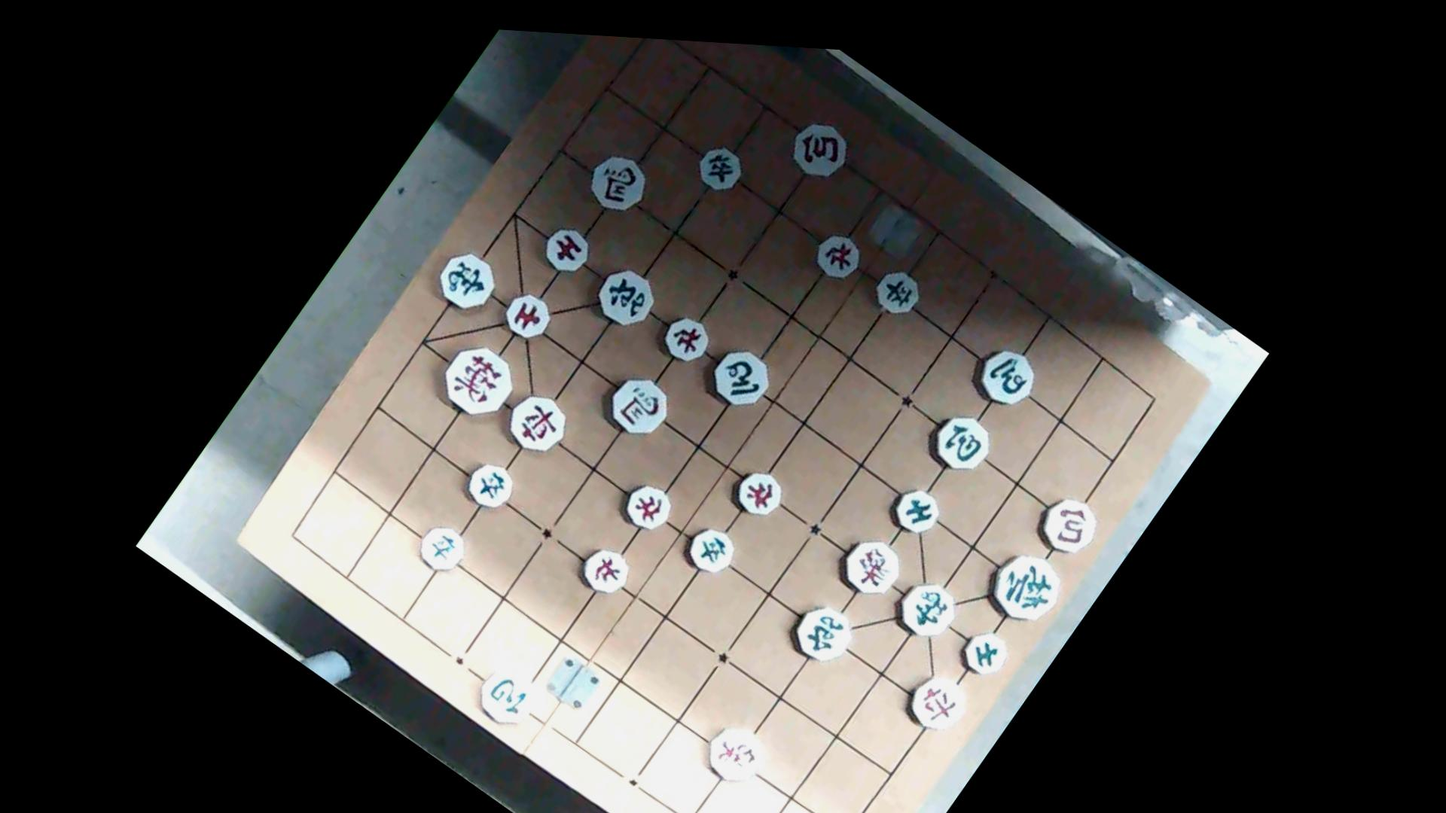cha_green: (586, 257, 664, 336), (786, 595, 860, 670)
cha_red: (499, 382, 577, 463), (898, 665, 973, 739)
jol_green: (410, 515, 477, 583), (459, 455, 522, 519), (680, 520, 743, 584), (869, 260, 930, 323), (687, 138, 749, 199)
jol_red: (616, 473, 680, 541), (805, 223, 871, 288), (574, 537, 637, 604), (656, 306, 718, 371), (729, 464, 788, 523)
ma_green: (700, 337, 779, 419), (969, 338, 1045, 418)
ma_red: (578, 142, 660, 226), (597, 366, 679, 448)
po_green: (467, 655, 545, 736), (923, 403, 999, 483)
po_red: (779, 108, 856, 188), (1033, 488, 1106, 562)
sa_green: (885, 480, 944, 540), (956, 623, 1014, 681)
sa_red: (533, 215, 600, 282), (494, 282, 560, 350)
sang_green: (430, 242, 508, 320), (891, 572, 964, 647)
sang_red: (696, 712, 776, 794), (834, 526, 911, 604)
wang_green: (980, 538, 1073, 635)
wang_red: (433, 333, 525, 428)
